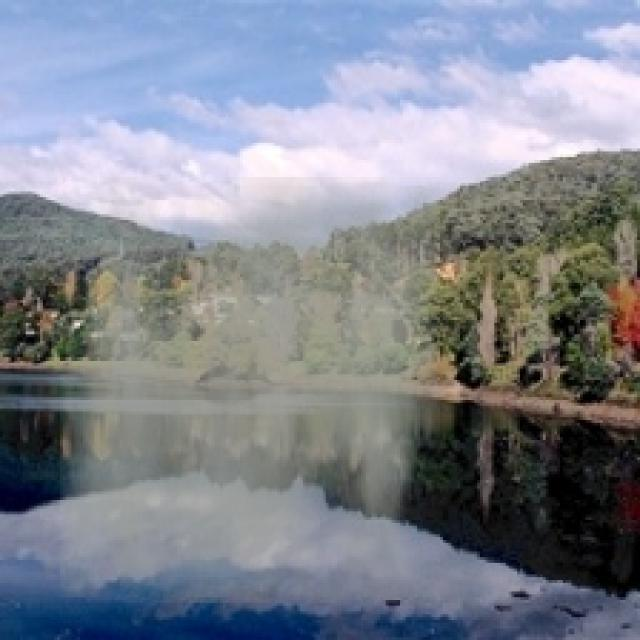smoke: (60, 177, 440, 603)
